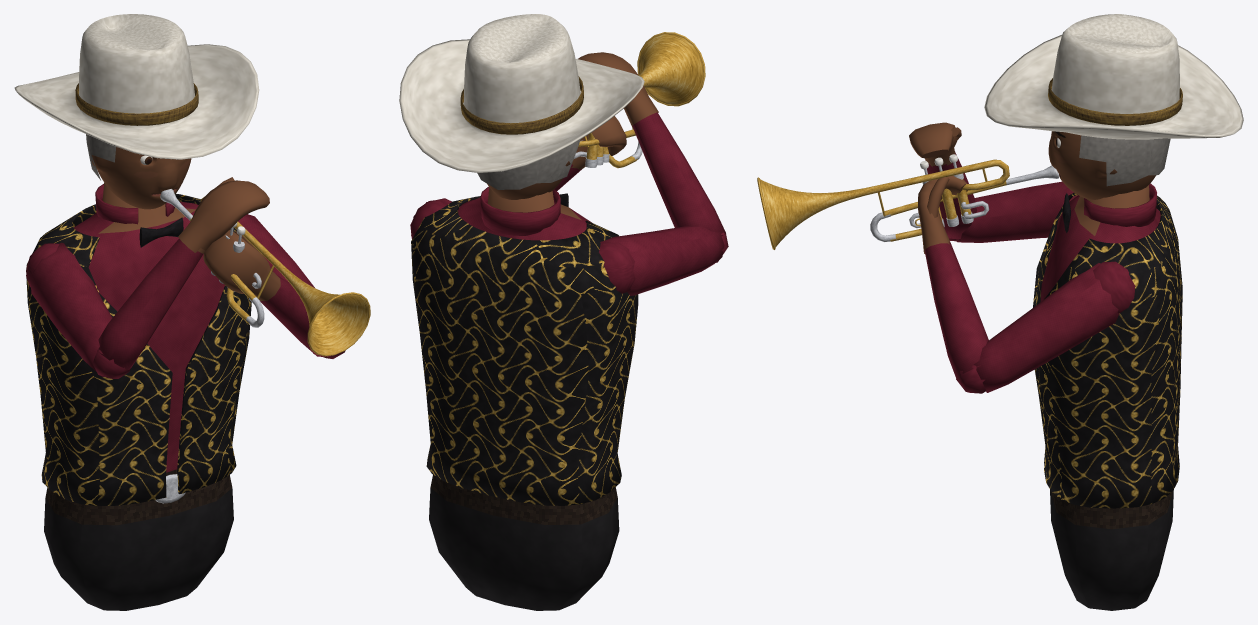
The model's file is torso.obj.
The picture shows the model from 3 angles, left to right: view 1: azimuth 30°, elevation 25°; view 2: azimuth 150°, elevation 25°; view 3: azimuth 270°, elevation 25°; orthographic projection.
Visible parts, largest first — view 1: trompeta2_Chaleco, trompeta2_Torso, trompeta2_Sombrero, trompeta2_Trompeta, trompeta2_BrazoDer, trompeta2_AntebrazoDer, trompeta2_Cabeza, trompeta2_ManoDer, trompeta2_ManoIzq, trompeta2_AntebrazoIzq, trompeta2_BrazoIzq, trompeta2_Cuello (+4 smaller); view 2: trompeta2_Chaleco, trompeta2_Sombrero, trompeta2_Torso, trompeta2_Trompeta, trompeta2_BrazoDer, trompeta2_AntebrazoDer, trompeta2_Pelo, trompeta2_Cuello, trompeta2_ManoDer, trompeta2_HombroDer, trompeta2_ManoIzq, trompeta2_Cabeza (+1 smaller); view 3: trompeta2_Chaleco, trompeta2_Sombrero, trompeta2_Torso, trompeta2_BrazoIzq, trompeta2_Trompeta, trompeta2_AntebrazoIzq, trompeta2_BrazoDer, trompeta2_Pelo, trompeta2_Cabeza, trompeta2_ManoIzq, trompeta2_ManoDer, trompeta2_Cuello (+2 smaller).
Part boxes in pixels (box(x1,y1,x2,y2)): trompeta2_Chaleco: box(26, 194, 251, 505); trompeta2_Torso: box(44, 182, 233, 610); trompeta2_Sombrero: box(14, 14, 259, 159); trompeta2_Trompeta: box(160, 189, 370, 356); trompeta2_BrazoDer: box(30, 242, 112, 376); trompeta2_AntebrazoDer: box(97, 229, 204, 369); trompeta2_Cabeza: box(91, 147, 191, 209); trompeta2_ManoDer: box(178, 177, 269, 254); trompeta2_ManoIzq: box(203, 230, 280, 300); trompeta2_AntebrazoIzq: box(260, 275, 331, 357); trompeta2_BrazoIzq: box(238, 214, 314, 349); trompeta2_Cuello: box(95, 184, 174, 224); trompeta2_Chaleco: box(411, 196, 638, 505); trompeta2_Sombrero: box(399, 14, 644, 172); trompeta2_Torso: box(429, 187, 619, 610); trompeta2_Trompeta: box(574, 32, 705, 168); trompeta2_BrazoDer: box(600, 226, 724, 295); trompeta2_AntebrazoDer: box(632, 98, 725, 236); trompeta2_Pelo: box(477, 139, 580, 189); trompeta2_Cuello: box(480, 186, 560, 235); trompeta2_ManoDer: box(578, 52, 658, 125); trompeta2_HombroDer: box(599, 242, 635, 293); trompeta2_ManoIzq: box(571, 116, 626, 169); trompeta2_Cabeza: box(487, 161, 570, 199); trompeta2_Chaleco: box(1033, 192, 1182, 508); trompeta2_Sombrero: box(984, 14, 1243, 139); trompeta2_Torso: box(1040, 185, 1173, 610); trompeta2_BrazoIzq: box(973, 263, 1118, 392); trompeta2_Trompeta: box(757, 154, 1058, 249); trompeta2_AntebrazoIzq: box(924, 235, 988, 380); trompeta2_BrazoDer: box(956, 181, 1077, 242); trompeta2_Pelo: box(1079, 135, 1170, 186); trompeta2_Cabeza: box(1048, 131, 1155, 199); trompeta2_ManoIzq: box(918, 175, 967, 253); trompeta2_ManoDer: box(909, 122, 961, 167); trompeta2_Cuello: box(1084, 183, 1156, 226).
Size of the model in its own units: 0.5103 by 1.03 by 0.8165.
17 materials, 17 textured.
